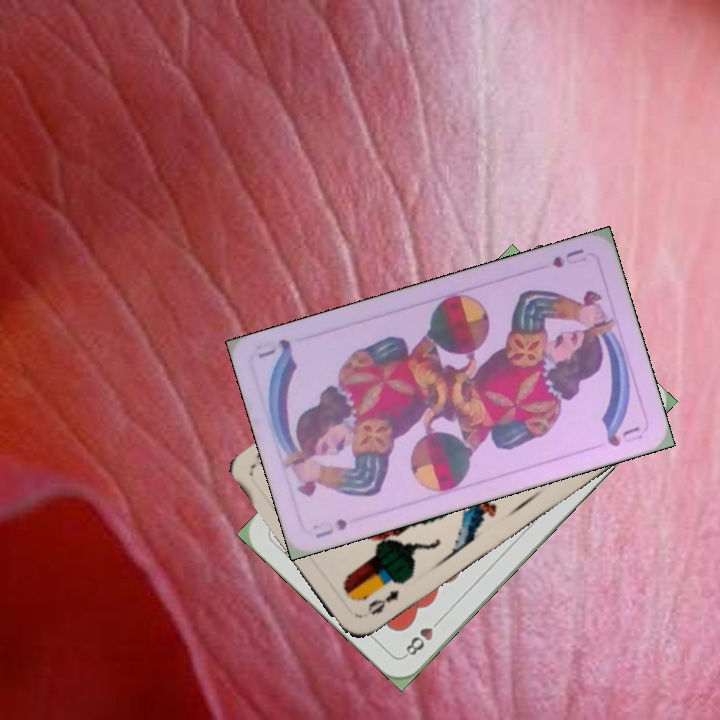EO: (357, 585, 402, 621)
H8: (400, 612, 446, 659)
SU: (548, 244, 590, 271), (311, 514, 350, 540)
